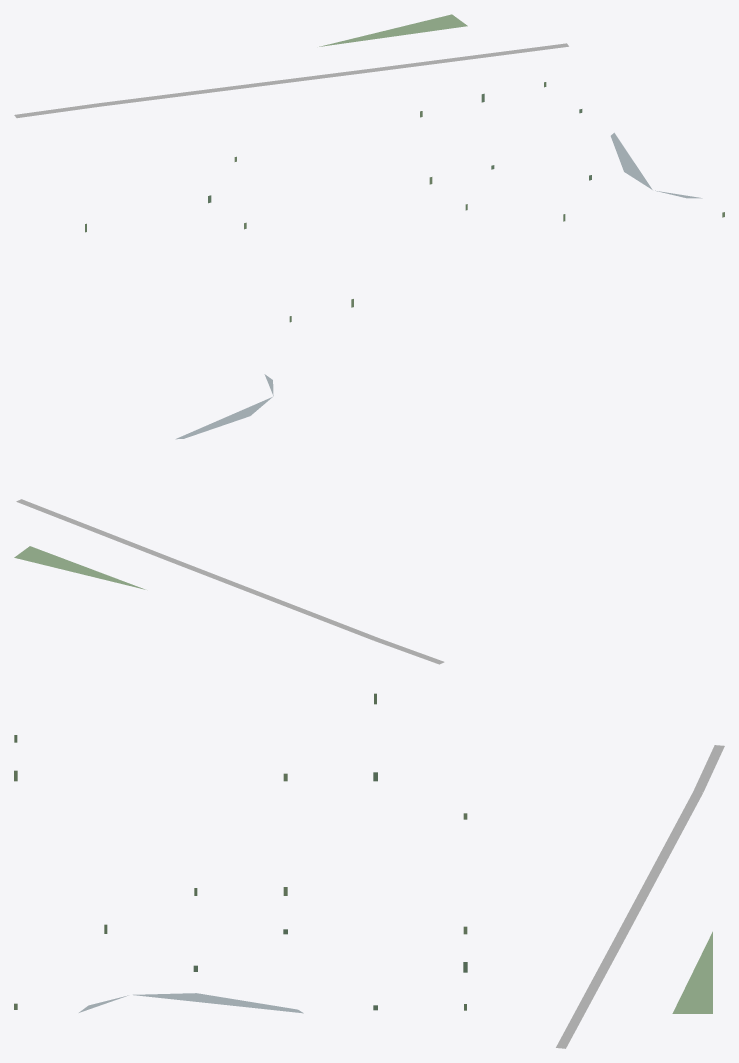
3 views of the same model, one above another, from view 1: azimuth 30°, elevation 25°; view 2: azimuth 150°, elevation 25°; view 3: azimuth 270°, elevation 25° (orthographic). The views are drawn at different scales.
Size of the model in its own units: 541 by 9.72 by 474.
